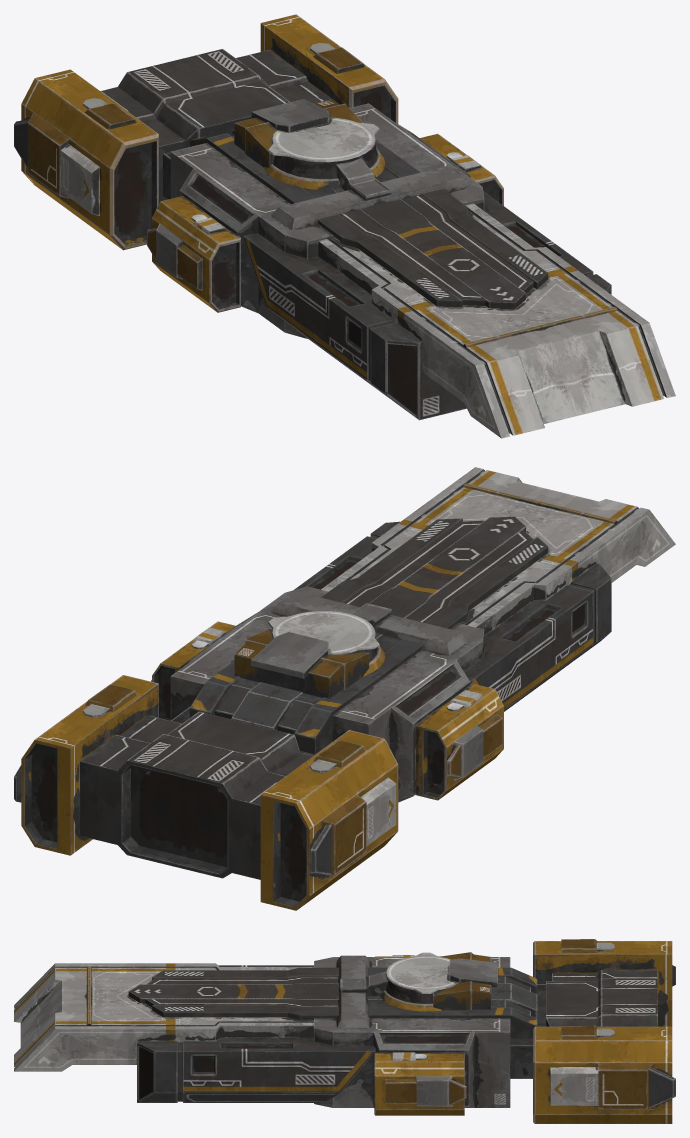
The model's file is imperial.glb.
3 views of the same model, one above another, from view 1: azimuth 30°, elevation 25°; view 2: azimuth 150°, elevation 25°; view 3: azimuth 270°, elevation 25° (orthographic). The views are drawn at different scales.
Parts seen in each view (by area): view 1: Imperial; view 2: Imperial; view 3: Imperial.
Part boxes in pixels (box(x1,y1,x2,y2)): Imperial: box(14, 14, 675, 438); Imperial: box(14, 467, 675, 910); Imperial: box(14, 939, 675, 1123).
Bounding box in the file's own units: 7.73 × 3.3 × 18.55.
Materials: 1 (1 with a texture image).
